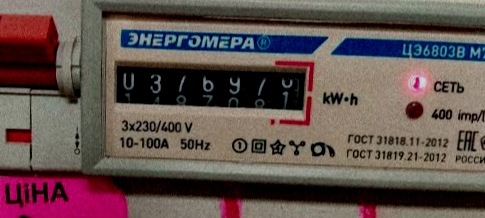0: (119, 66, 133, 89)
1: (276, 87, 289, 108)
3: (146, 70, 161, 92)
6: (198, 67, 213, 91)
7: (171, 68, 186, 91), (252, 72, 266, 95)
9: (224, 70, 239, 93)
screen: (102, 49, 315, 127)
